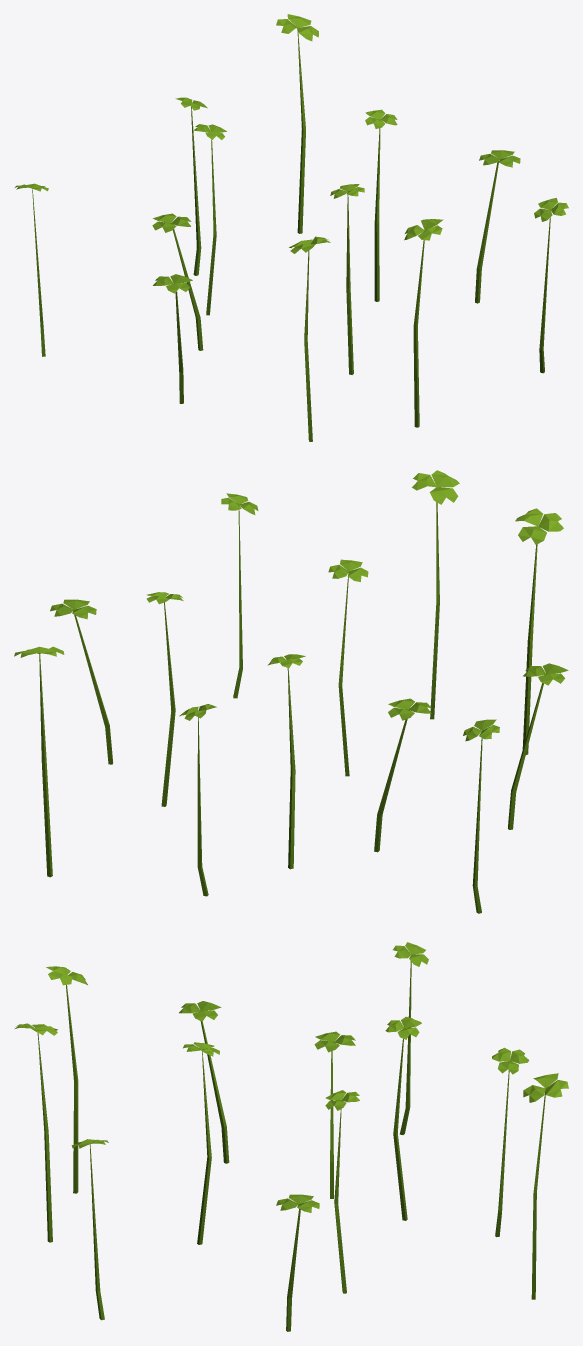
Rendered from clover.glb.
3 renders of one model, top to bottom at view 1: azimuth 30°, elevation 25°; view 2: azimuth 150°, elevation 25°; view 3: azimuth 270°, elevation 25°, orthographic. The views are drawn at different scales.
Parts seen in each view (by area): view 1: Clover_1_2_A; view 2: Clover_1_2_A; view 3: Clover_1_2_A.
Boxes of the visible parts, x1,y1,x2,y2 form: Clover_1_2_A: (15, 14, 568, 441); Clover_1_2_A: (14, 470, 568, 913); Clover_1_2_A: (15, 942, 568, 1331).
Size of the model in its own units: 0.3384 by 0.15 by 0.3426.
Materials: 1 (1 with a texture image).
